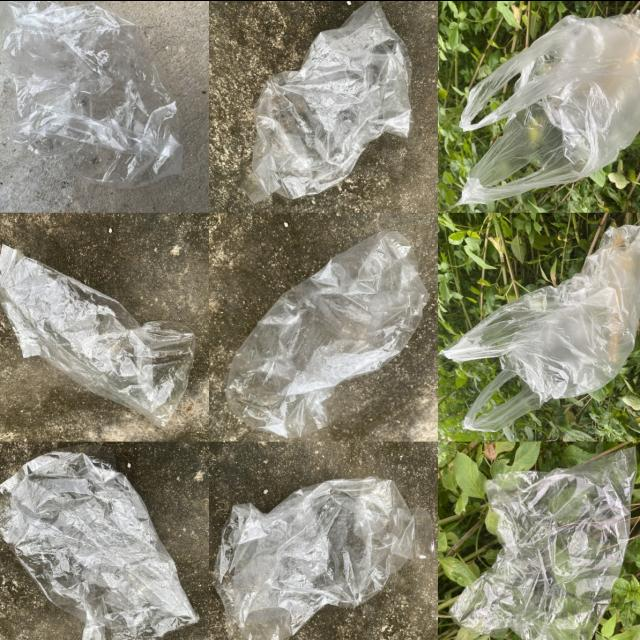plastik: (226, 230, 429, 436), (441, 224, 640, 431), (0, 450, 198, 640), (451, 447, 636, 640), (0, 244, 195, 425), (459, 11, 640, 203), (0, 0, 183, 188), (242, 0, 412, 201), (214, 476, 413, 640)
